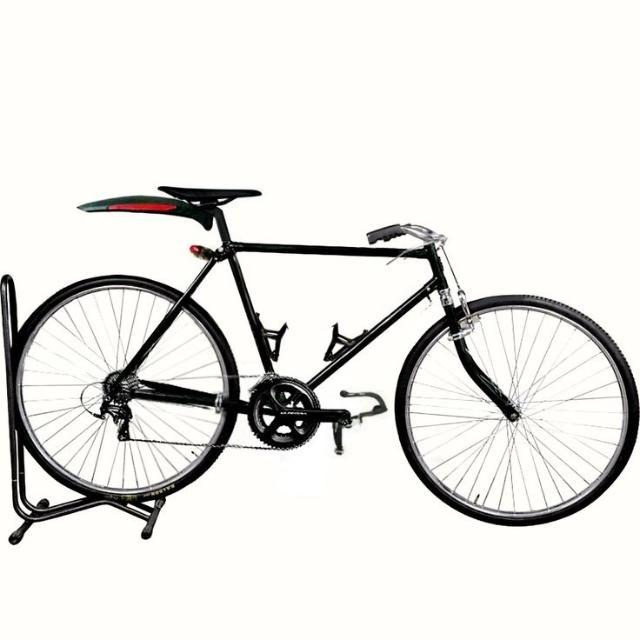obstacle: (61, 155, 626, 550)
